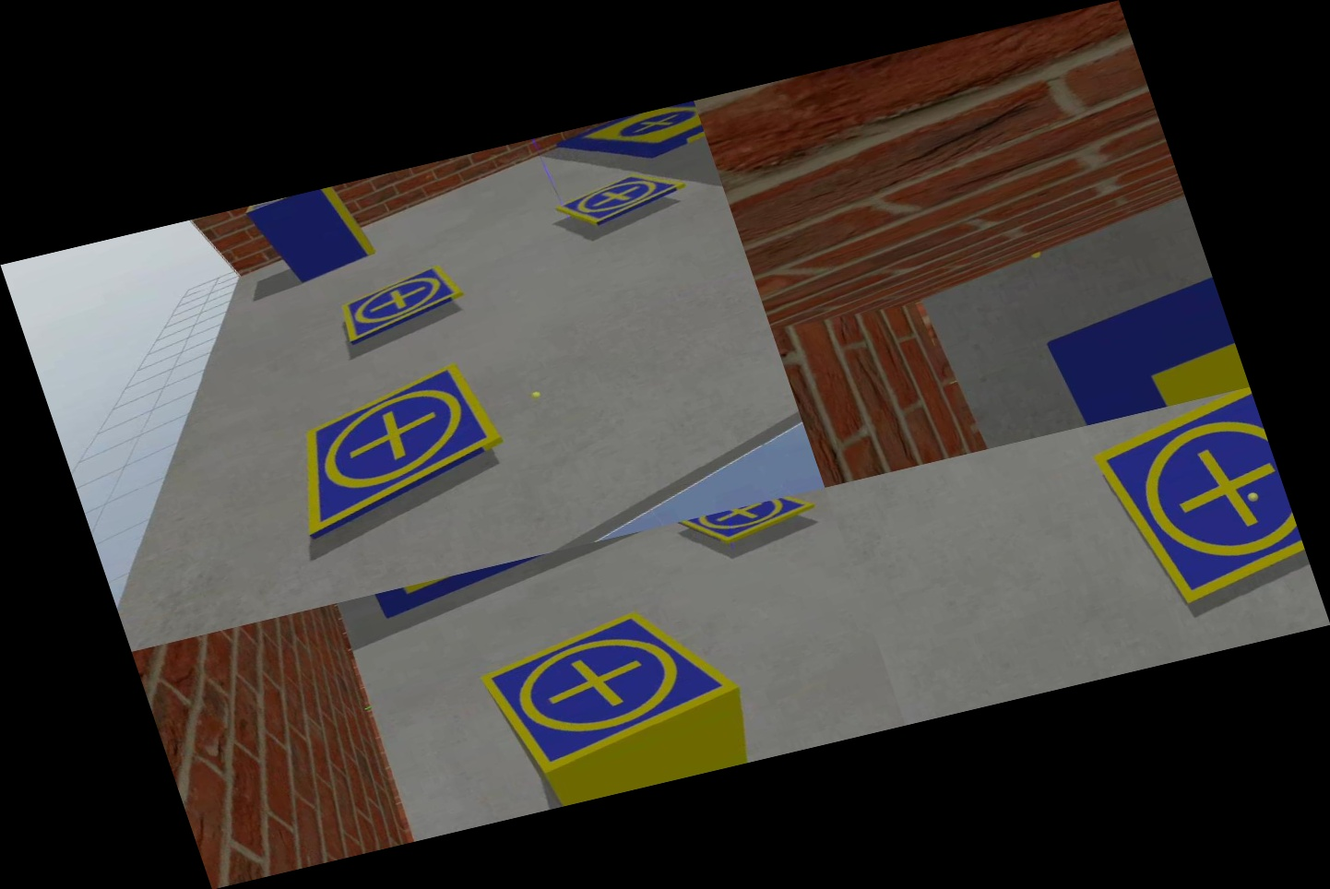large_base: (368, 535, 634, 622), (553, 101, 711, 184)
small_base: (468, 587, 756, 784), (1079, 386, 1315, 621), (246, 355, 525, 545), (326, 258, 473, 346), (552, 160, 694, 239), (672, 491, 823, 559), (239, 185, 338, 218)
